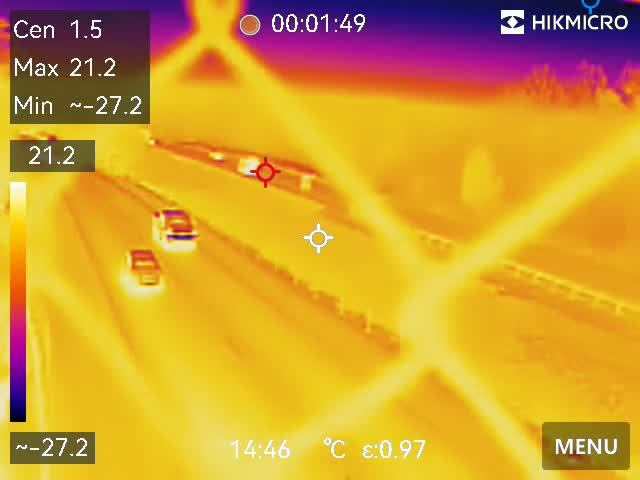lightTruck: (145, 203, 201, 250)
smallCar: (129, 246, 162, 287)
